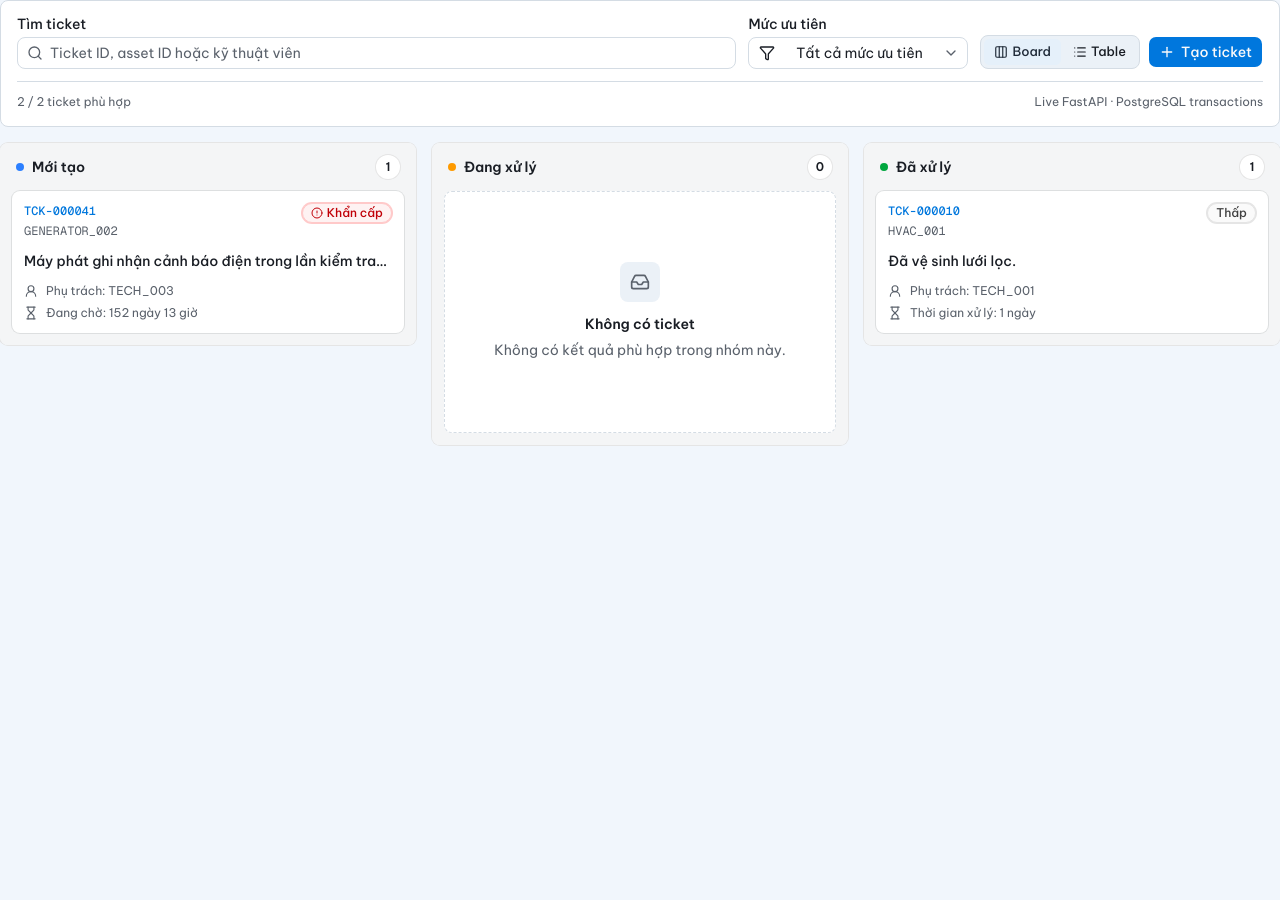
Test: permission-aware product UI › lets helpdesk create an unassigned ticket without assignment controls
The width and height of the screenshot is (1280, 900).
What coordinates should you click on to do the following:
click the button "Tạo ticket"
I would click on:
 (1206, 52)
Its box is [1148,36,1263,68].
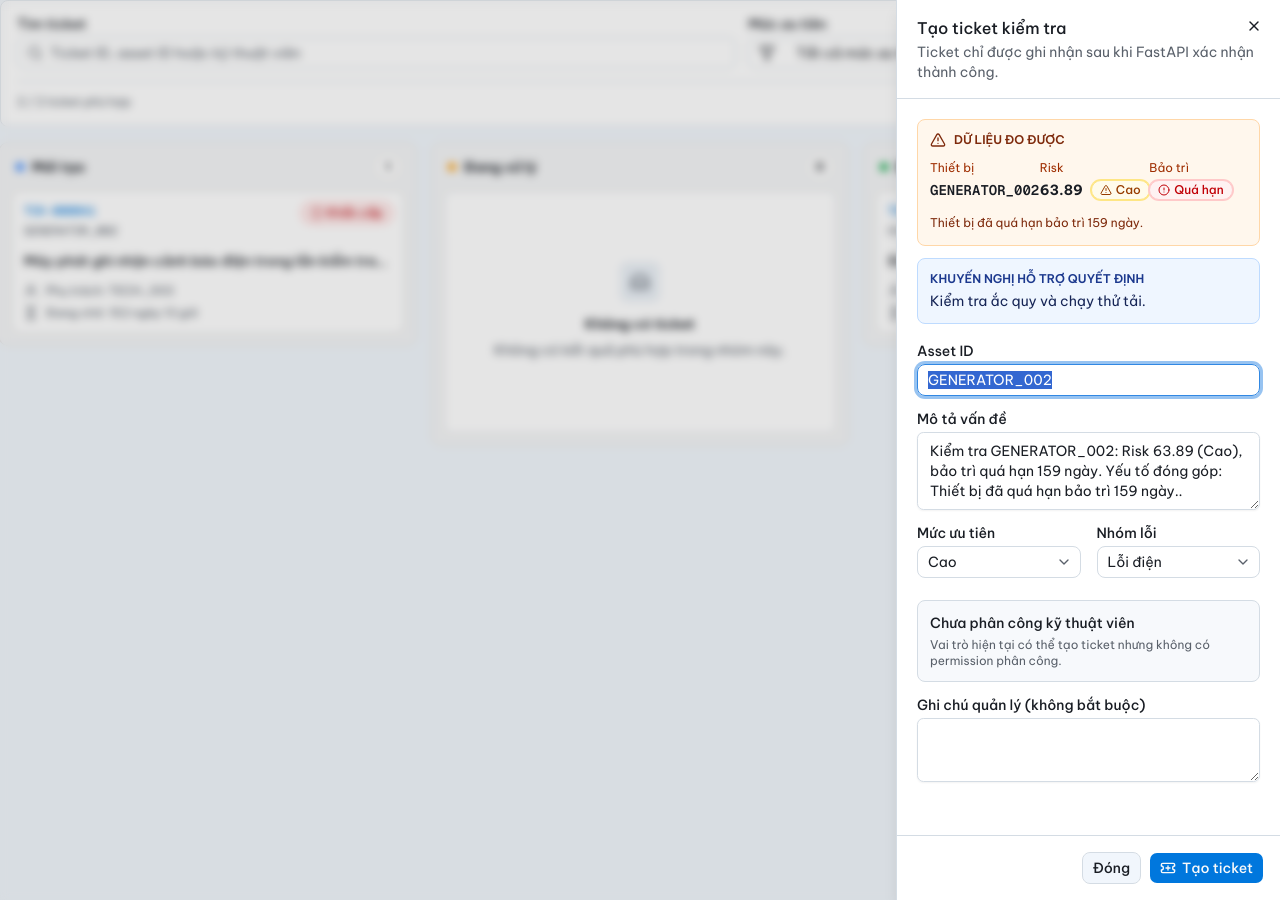
Expected: the text "Chưa phân công kỹ thuật viên" is shown, [930,614,1135,632]
